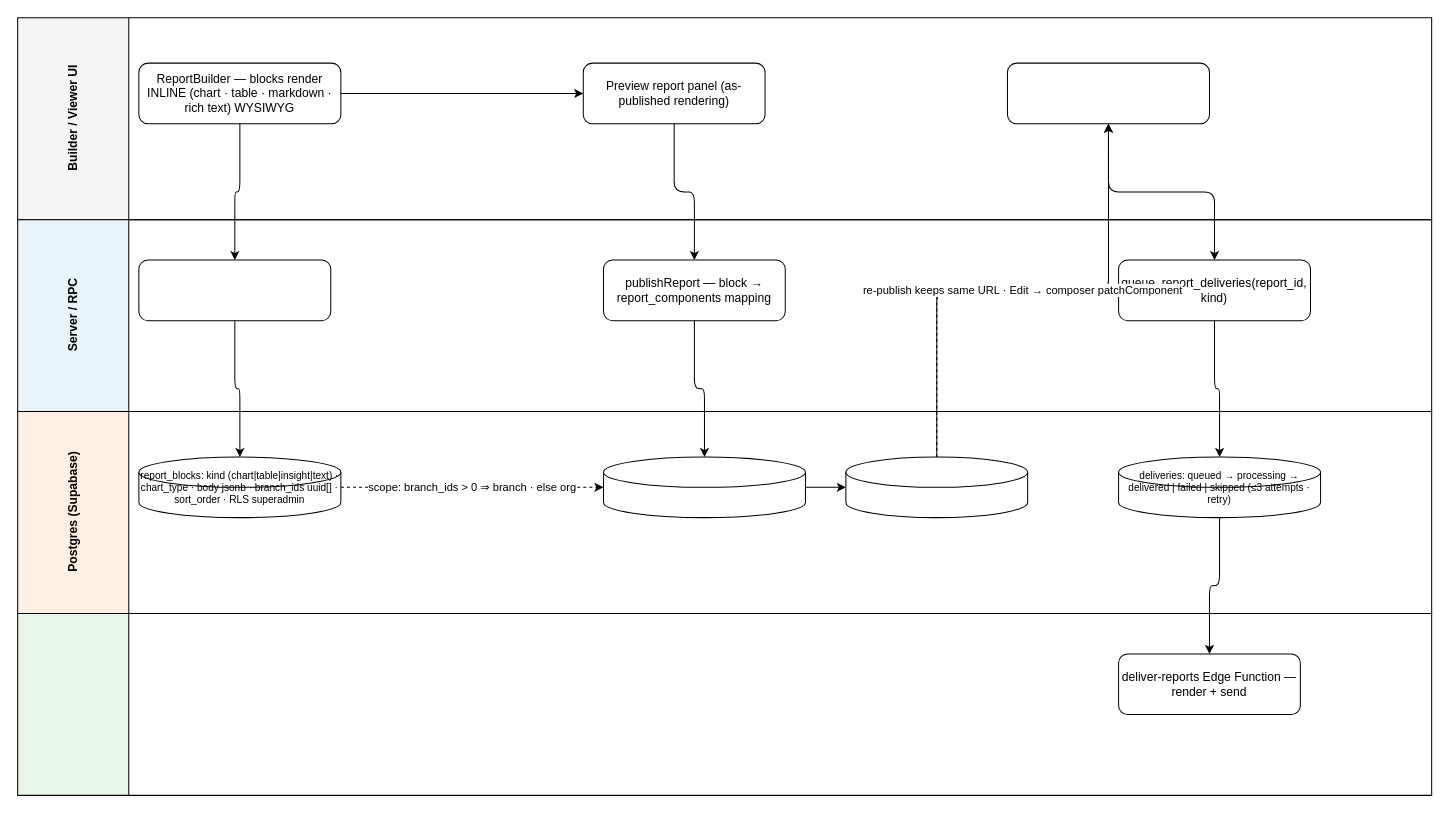
Some shapes in this 1449 by 813 pixel diagram are drawn without their labels. The shapes that lost their labels are listed below. From the top down, each one's box as (x1, y1, x2, y2) in pixels, then its label:
(1006, 62, 1209, 124): /reports/[id] ReportViewer — same renderer (ReportBlockBody)
(138, 259, 331, 321): add_report_block · reorder_report_blocks · delete_report_block
(602, 456, 805, 518): report_components: body (+ chart_type), visibility org|branch, branch_ids
(845, 456, 1028, 518): reports: status published · application_ids
(17, 613, 1432, 795): Delivery
